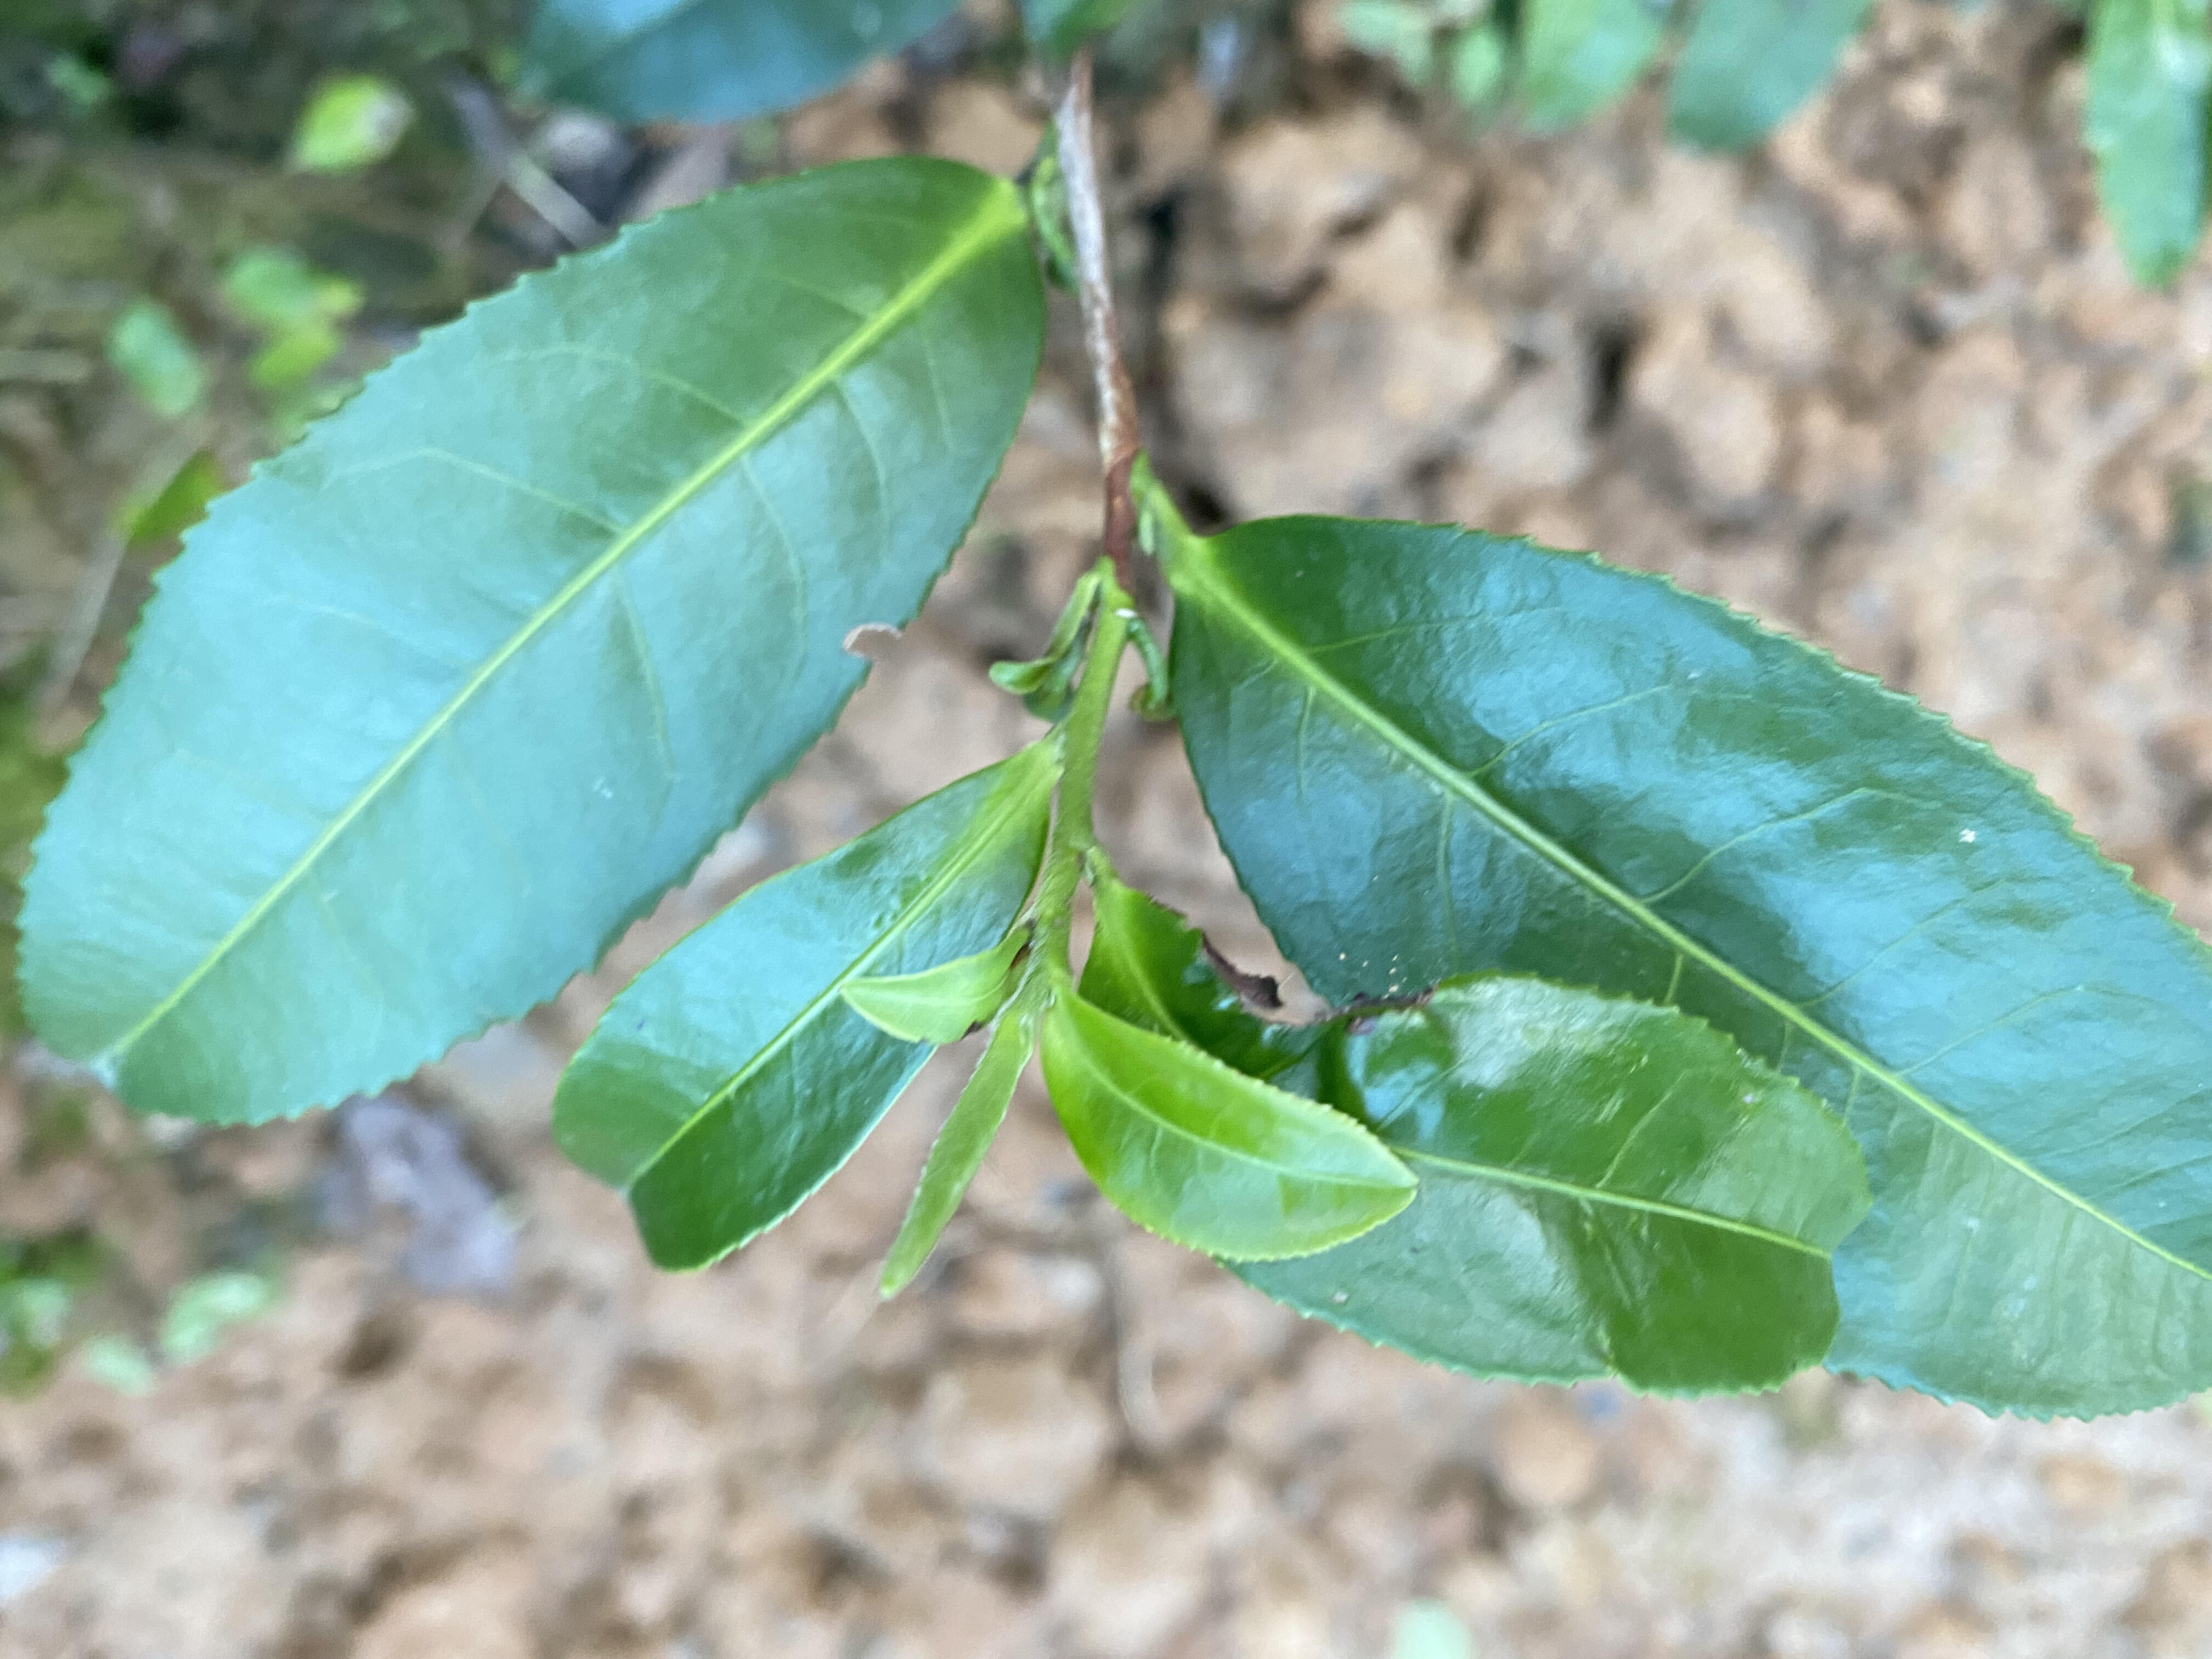chihuo_low: (16, 150, 1047, 1131)
healthy: (549, 741, 1049, 1272), (1045, 988, 1423, 1262)
tanju_high: (1080, 889, 1878, 1398)
tanju_low: (834, 924, 1031, 1047)
